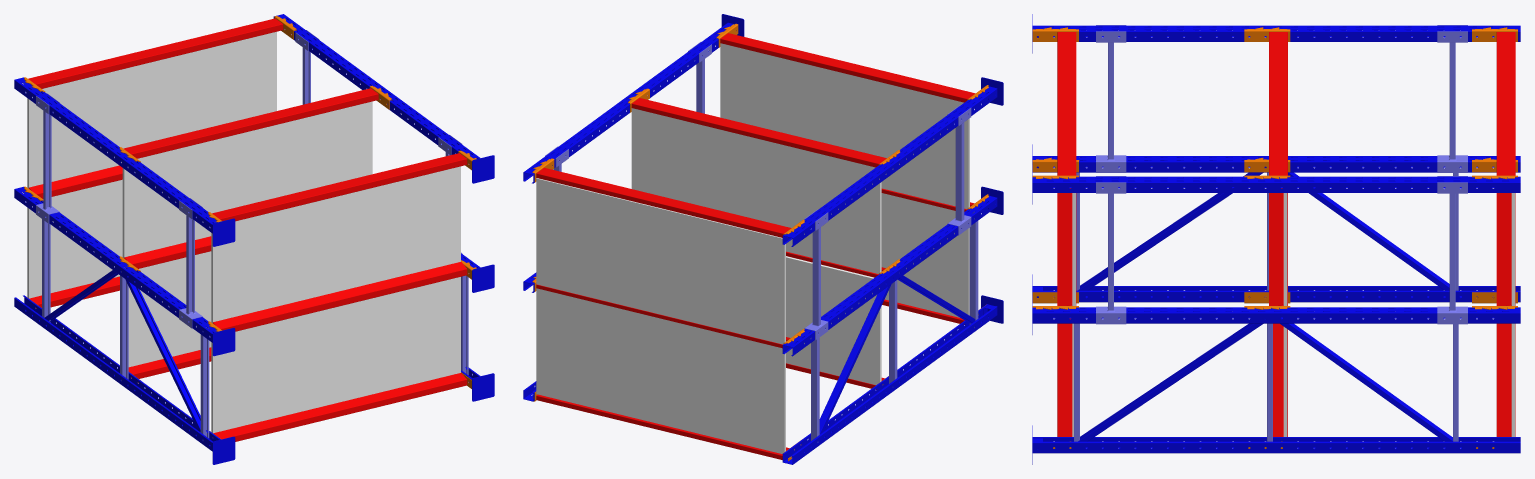
The model's file is Rack_assy.glb.
3 views of the same model, side by side, from view 1: azimuth 30°, elevation 25°; view 2: azimuth 150°, elevation 25°; view 3: azimuth 270°, elevation 25° (orthographic). The views are drawn at different scales.
Parts seen in each view (by area): view 1: board_CPY1:1, board_CPY1:2, board:2, board_CPY:2, H-Bar_1:1 (×6), V-stand:1 (×3), board:1, Mid_H-Bar:1 (×3), board_CPY:1, V-stand:2, link-Clamp:1 (×2), HB-Support-1:1 (×2) (+11 smaller); view 2: board:2, board:1, board_CPY:2, board_CPY1:2, H-Bar_1:1 (×4), V-stand:1 (×3), board_CPY:1, board_CPY1:1, V-stand:2, link-Clamp:2 (×2), HB-Support-2:1, link-Clamp:1 (+5 smaller); view 3: V-stand:1 (×4), V-stand:2 (×2), H-Bar_1:1 (×6), Mid_H-Bar:1 (×3), link-Clamp:1 (×2), HB-Support-2:2 (×2), HB-Support-2:1 (×2), link-Clamp:2 (×2), HB-Support-1:2, HB-Support-1:1, HB-Support-1:3, board:1 (+3 smaller).
Boxes of the visible parts, x1,y1,x2,y2 form: board_CPY1:1: [211, 277, 460, 433]; board_CPY1:2: [211, 166, 460, 323]; board:2: [27, 31, 276, 188]; board_CPY:2: [122, 101, 372, 258]; H-Bar_1:1 (×6): [28, 18, 467, 441]; V-stand:1 (×3): [14, 14, 480, 342]; board:1: [27, 179, 122, 298]; Mid_H-Bar:1 (×3): [29, 165, 467, 331]; board_CPY:1: [128, 251, 211, 367]; V-stand:2: [14, 295, 220, 451]; link-Clamp:1 (×2): [36, 30, 319, 223]; HB-Support-1:1 (×2): [200, 275, 468, 440]; board:2: [536, 178, 785, 344]; board:1: [536, 288, 785, 453]; board_CPY:2: [631, 108, 881, 273]; board_CPY1:2: [720, 43, 969, 208]; H-Bar_1:1 (×4): [536, 33, 975, 459]; V-stand:1 (×3): [523, 22, 997, 356]; board_CPY:1: [786, 256, 881, 384]; board_CPY1:1: [881, 193, 969, 317]; V-stand:2: [782, 304, 997, 464]; link-Clamp:2 (×2): [688, 42, 971, 235]; HB-Support-2:1: [819, 271, 893, 434]; link-Clamp:1: [804, 209, 828, 340]; V-stand:1 (×4): [1032, 25, 1520, 323]; V-stand:2 (×2): [1032, 286, 1520, 453]; H-Bar_1:1 (×6): [1057, 32, 1515, 436]; Mid_H-Bar:1 (×3): [1057, 188, 1515, 305]; link-Clamp:1 (×2): [1437, 25, 1467, 324]; HB-Support-2:2 (×2): [1078, 166, 1266, 441]; HB-Support-2:1 (×2): [1280, 172, 1452, 441]; link-Clamp:2 (×2): [1096, 25, 1126, 324]; HB-Support-1:2: [1267, 323, 1272, 441]; HB-Support-1:1: [1074, 308, 1079, 441]; HB-Support-1:3: [1453, 324, 1458, 441]; board:1: [1511, 323, 1515, 436].
Bounding box in the file's own units: 1.91 × 1.56 × 2.4.
